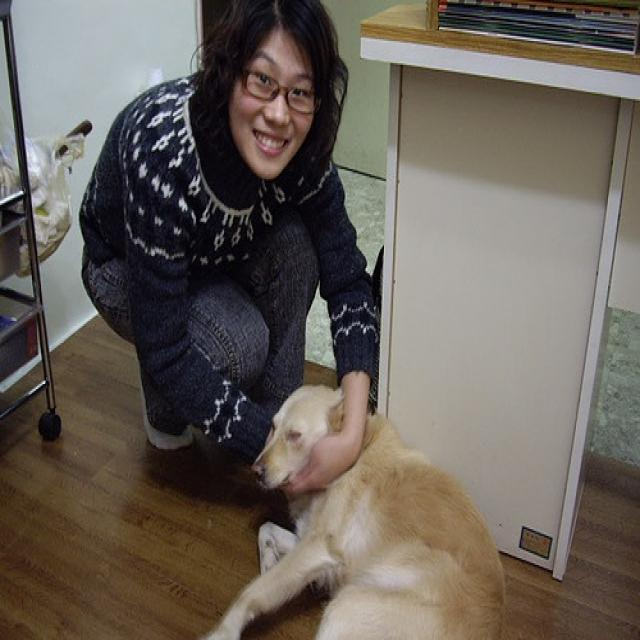dog: (205, 386, 504, 638)
